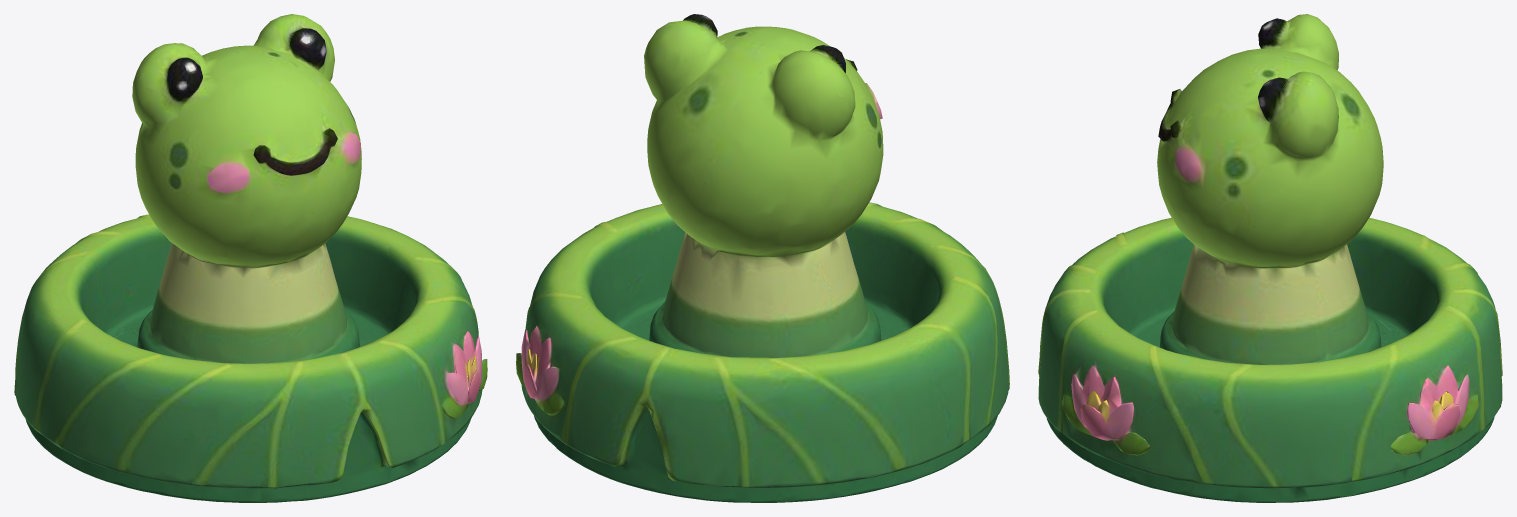
Rendered from mallet-frog.glb.
3 views of the same model, side by side, from view 1: azimuth 30°, elevation 25°; view 2: azimuth 150°, elevation 25°; view 3: azimuth 270°, elevation 25° (orthographic). The views are drawn at different scales.
Parts seen in each view (by area): view 1: tripo_node_15ba0de3-64ec-401e-b1f3-4f7d8021484f; view 2: tripo_node_15ba0de3-64ec-401e-b1f3-4f7d8021484f; view 3: tripo_node_15ba0de3-64ec-401e-b1f3-4f7d8021484f.
Part boxes in pixels (x1,y1,x2,y2): tripo_node_15ba0de3-64ec-401e-b1f3-4f7d8021484f: [14, 14, 487, 502]; tripo_node_15ba0de3-64ec-401e-b1f3-4f7d8021484f: [516, 14, 1009, 502]; tripo_node_15ba0de3-64ec-401e-b1f3-4f7d8021484f: [1038, 14, 1502, 502].
Bounding box in the file's own units: 1 × 0.8609 × 0.9957.
Materials: 1 (1 with a texture image).
